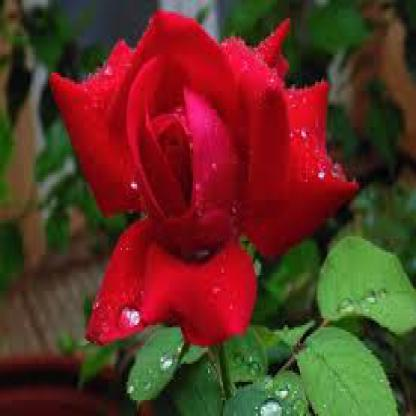Rose-Mawar: (36, 8, 351, 365)
